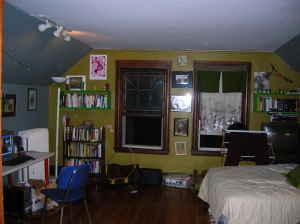Cama: (198, 163, 297, 222)
Ventana: (196, 63, 250, 154), (117, 65, 169, 152)
